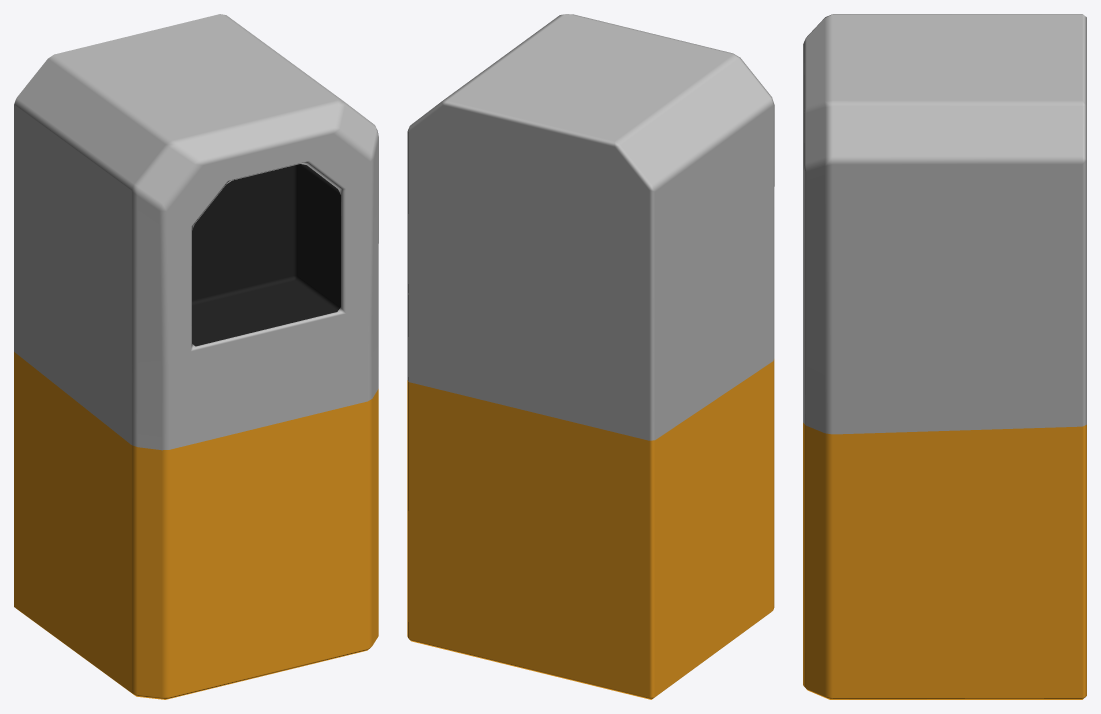
The model's file is Conveyor_Exit.fbx.
3 views of the same model, side by side, from view 1: azimuth 30°, elevation 25°; view 2: azimuth 150°, elevation 25°; view 3: azimuth 270°, elevation 25° (orthographic). The views are drawn at different scales.
Parts seen in each view (by area): view 1: Conveyor Exit; view 2: Conveyor Exit; view 3: Conveyor Exit.
Part boxes in pixels (x1,y1,x2,y2): Conveyor Exit: [14, 14, 378, 699]; Conveyor Exit: [407, 14, 774, 699]; Conveyor Exit: [803, 14, 1086, 699].
Size of the model in its own units: 101 by 214 by 94.96.
